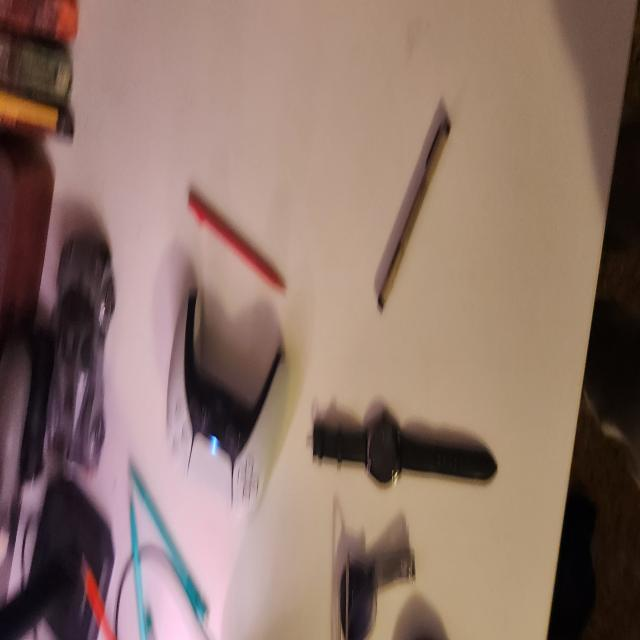Controller: (181, 301, 260, 467)
Pen: (374, 103, 453, 315), (189, 195, 286, 289)
Watch: (361, 399, 496, 490)
